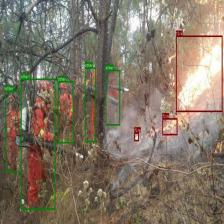fire: (176, 35, 222, 112), (162, 118, 178, 135), (134, 132, 139, 141)
